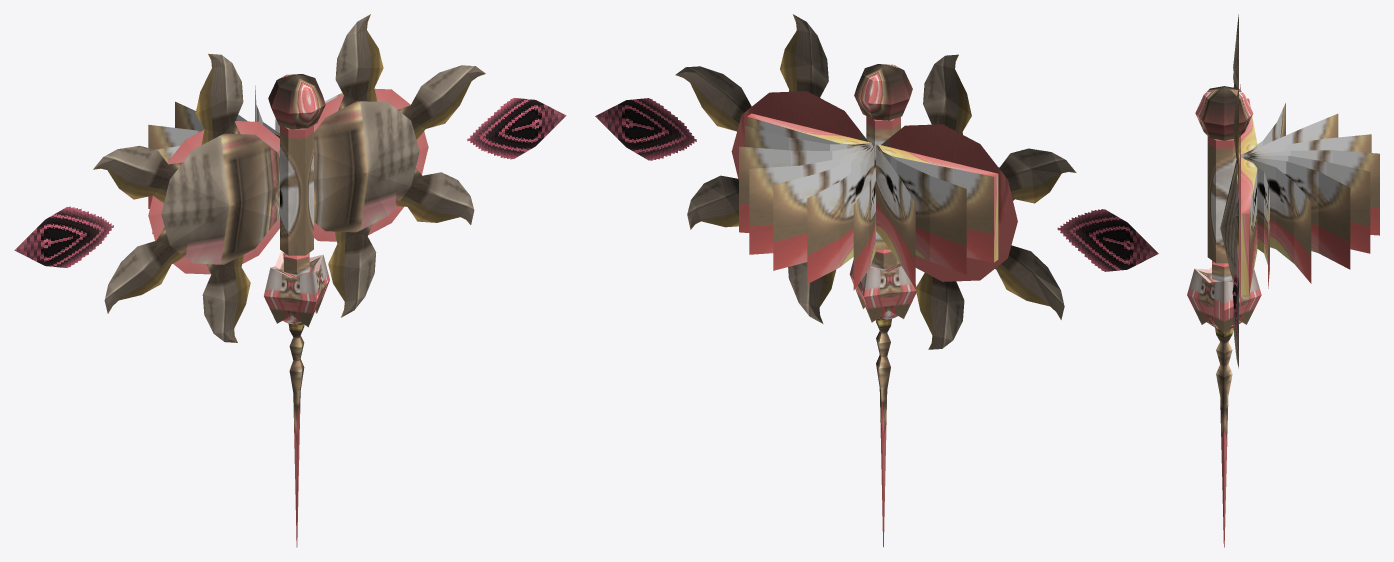
The model's file is shadowwarlockx1.obj.
3 renders of one model, left to right at view 1: azimuth 30°, elevation 25°; view 2: azimuth 150°, elevation 25°; view 3: azimuth 270°, elevation 25°, orthographic. The views are drawn at different scales.
Visible parts, largest first — view 1: w2dbkx1; view 2: w2dbkx1; view 3: w2dbkx1.
Part boxes in pixels (left/top/right/bottom): w2dbkx1: left=14, top=14, right=566, bottom=547; w2dbkx1: left=595, top=14, right=1158, bottom=547; w2dbkx1: left=1187, top=14, right=1379, bottom=547.
Bounding box in the file's own units: 1.14 × 1 × 0.3547.
